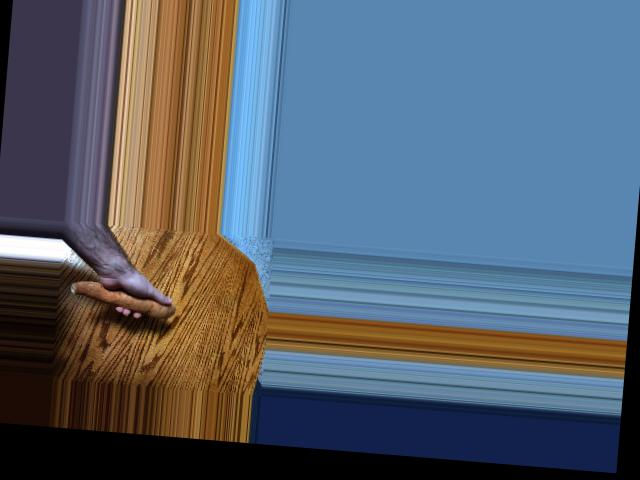sweet_potato: (64, 275, 176, 321)
